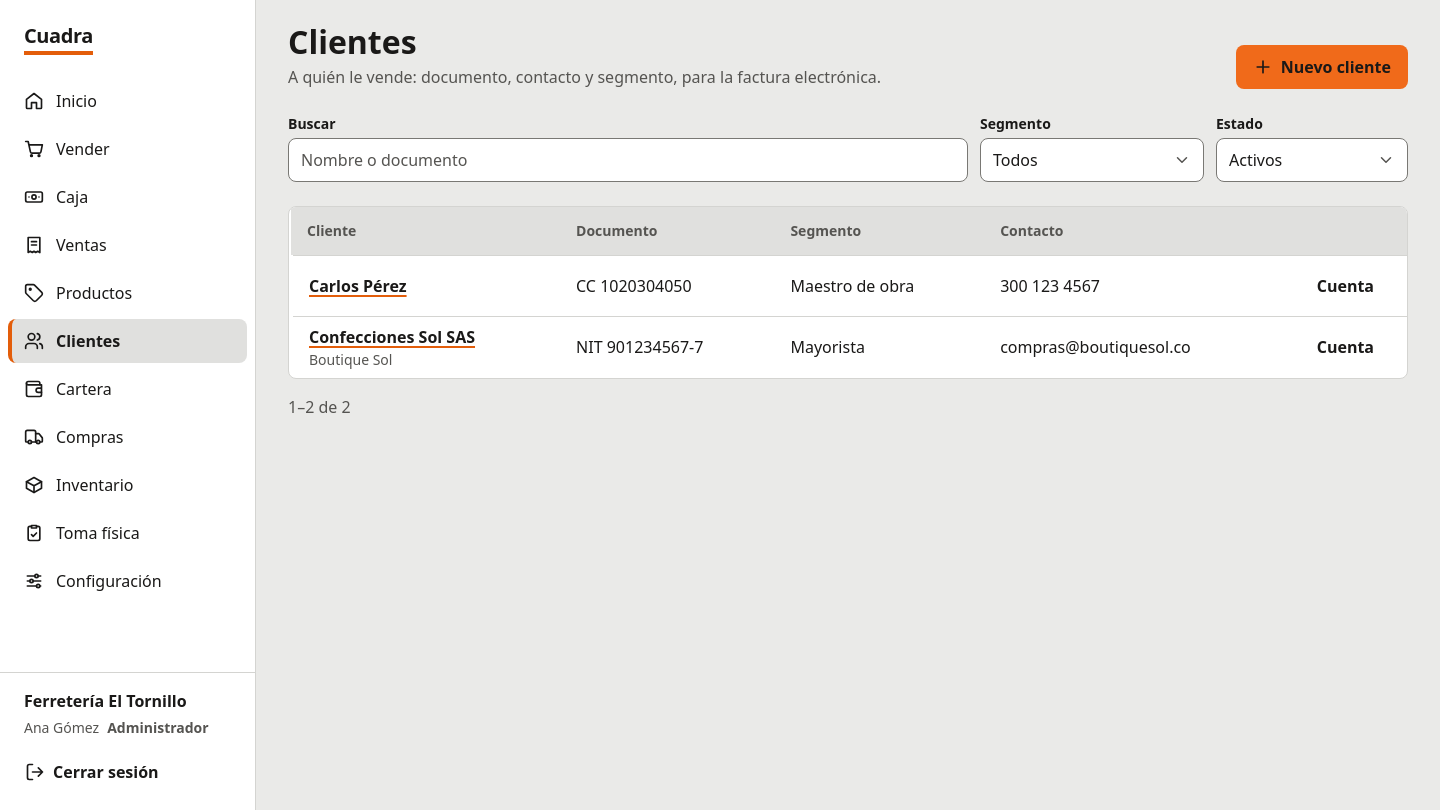
Test case: CustomerListPage › al escribir busca en la API
Step 1. Type "1020" into the search field labelled "Buscar" → (628, 160), box x1=288 y1=138 x2=968 y2=182
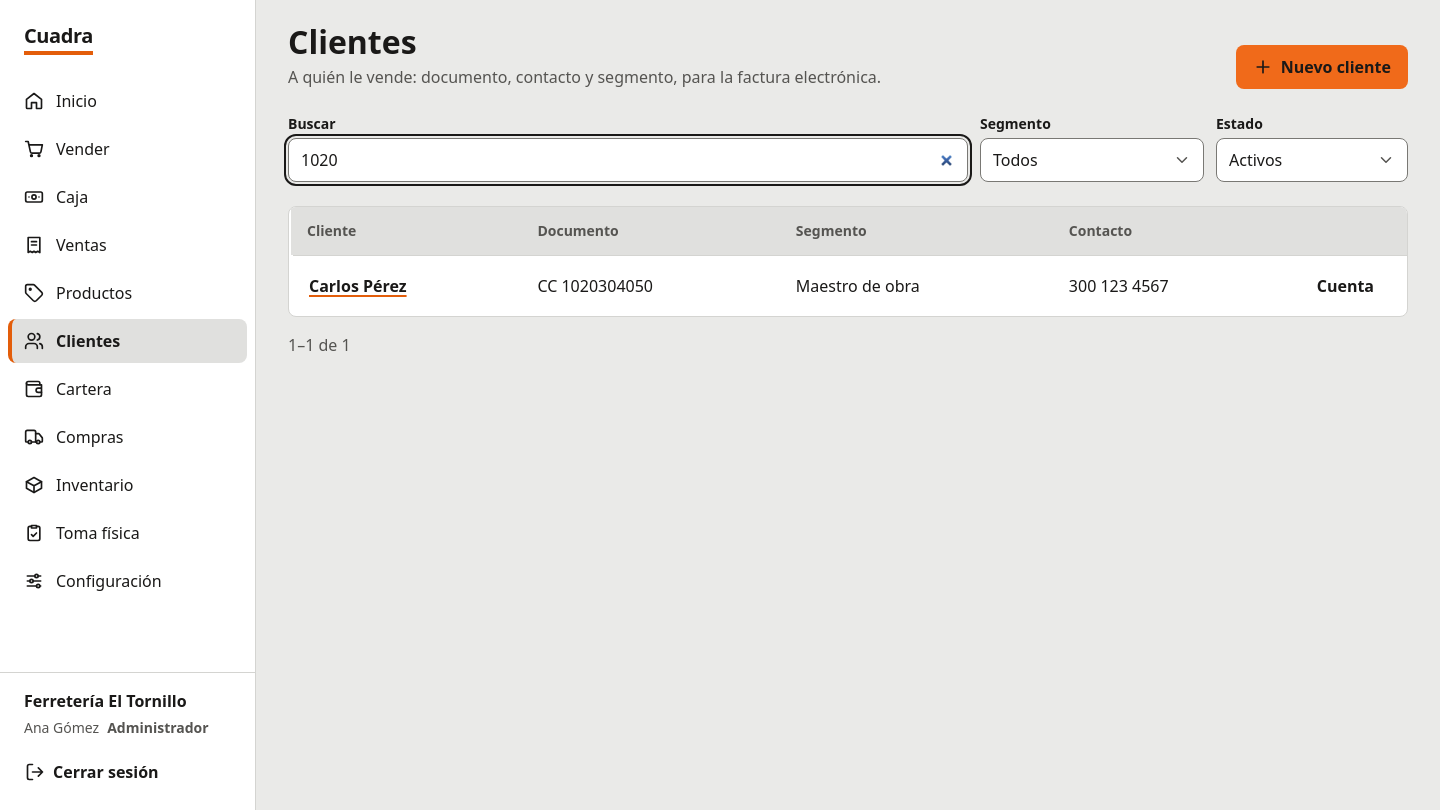
Expected: the link "Confecciones Sol" is gone
